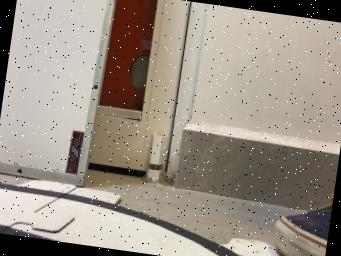street: (0, 184, 240, 256), (0, 184, 240, 256), (0, 184, 240, 256), (0, 184, 240, 256), (0, 184, 240, 256), (0, 184, 240, 256)
